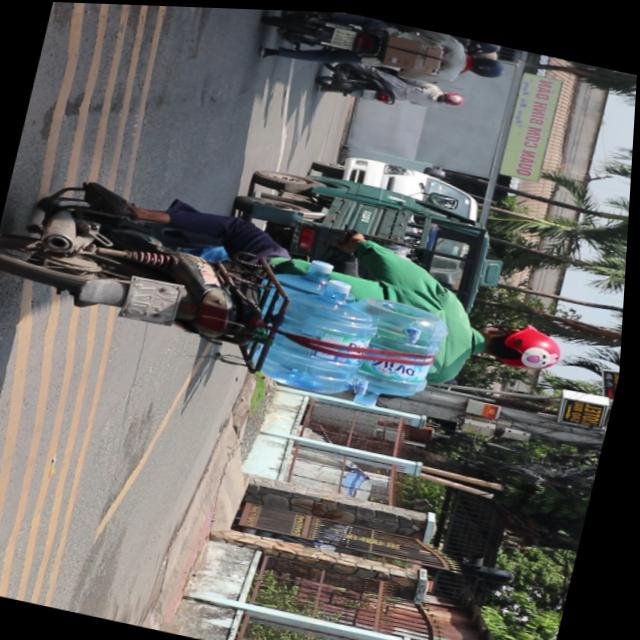helmet: (470, 309, 570, 375), (467, 50, 509, 79)
licenseplate: (0, 157, 591, 441), (256, 8, 514, 103)
nohelmet: (129, 275, 186, 327), (331, 25, 356, 47)
